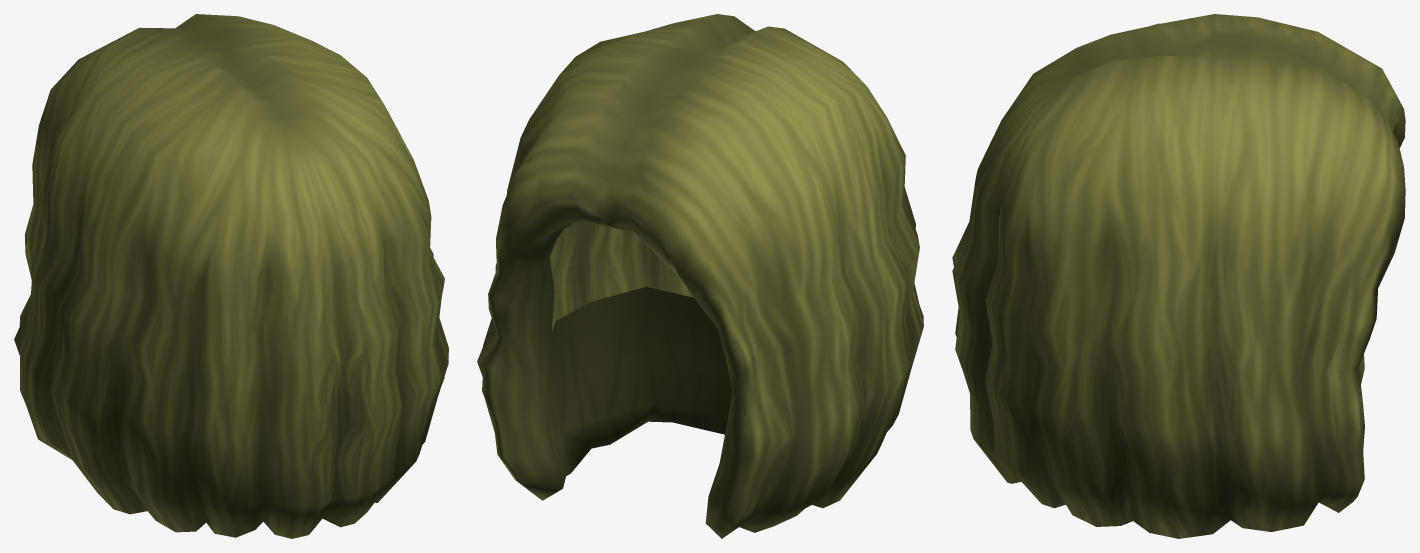
File: Hair_Female_006_textured_yellow.glb
3 renders of one model, left to right at view 1: azimuth 30°, elevation 25°; view 2: azimuth 150°, elevation 25°; view 3: azimuth 270°, elevation 25°, orthographic. The views are drawn at different scales.
Visible parts, largest first — view 1: Hair_Female_006; view 2: Hair_Female_006; view 3: Hair_Female_006.
Boxes of the visible parts, left/top/right/bottom form: Hair_Female_006: left=14, top=14, right=448, bottom=538; Hair_Female_006: left=477, top=14, right=923, bottom=538; Hair_Female_006: left=952, top=14, right=1405, bottom=538.
Bounding box in the file's own units: 0.2471 × 0.277 × 0.2597.
Materials: 1 (1 with a texture image).
